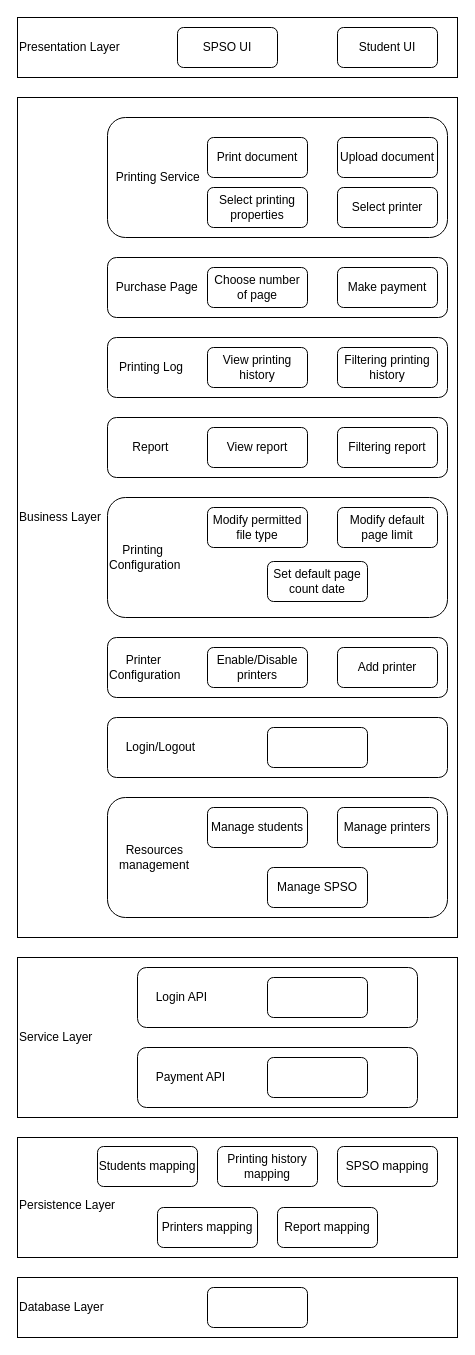
The diagram is 475 pixels wide and 1355 high, and some of its shapes have lost their labels. The shapes that lost their labels are listed below. From the top down, each one's centre as x and y in pixels, then its label:
At pixel 317 747: "Authentication".
At pixel 317 997: "HCMUT_SSO".
At pixel 317 1077: "BKPay".
At pixel 257 1307: "Database".
